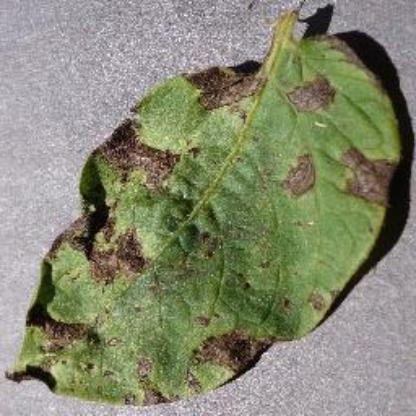Early-Blight: (15, 8, 408, 408)
